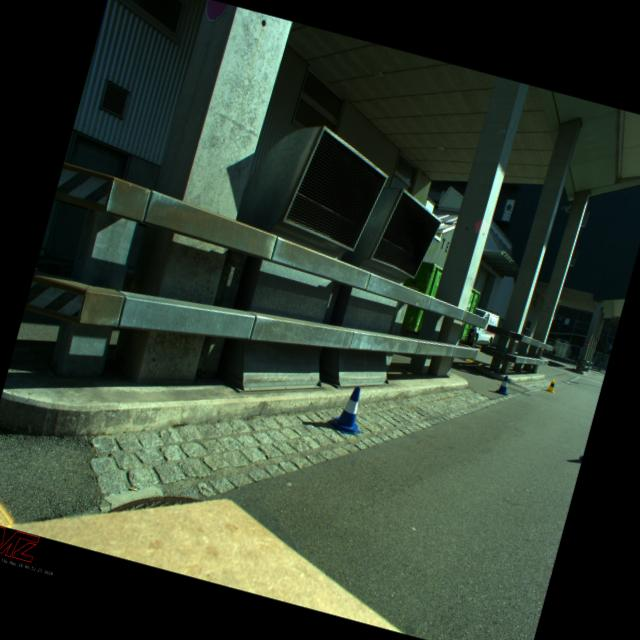blue_cone: (326, 382, 372, 438), (494, 374, 512, 396)
yellow_cone: (545, 378, 558, 393)
